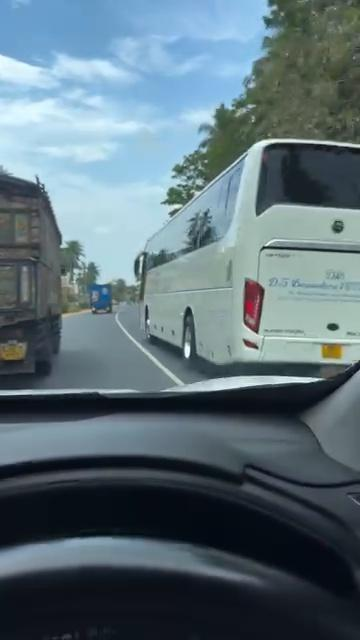illegal overtaking: (127, 180, 349, 368)
